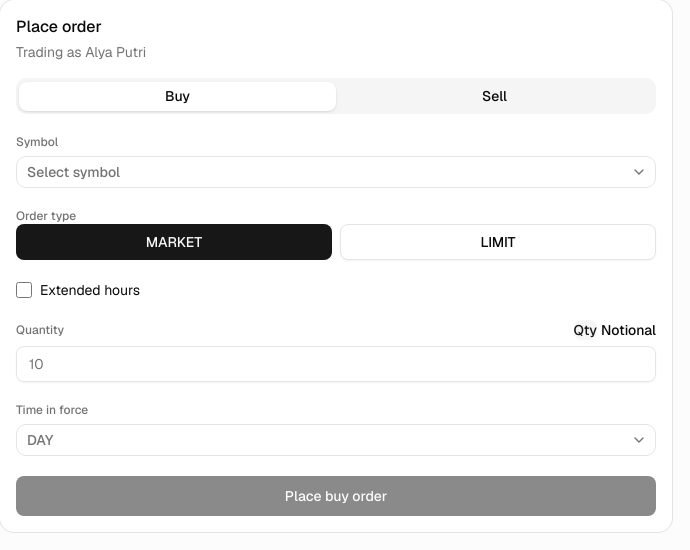
Test: OrderForm › switches to Sell mode when Sell tab is clicked
The width and height of the screenshot is (690, 550).
Click the tab "Sell" at [494, 96], box [336,82,653,110]
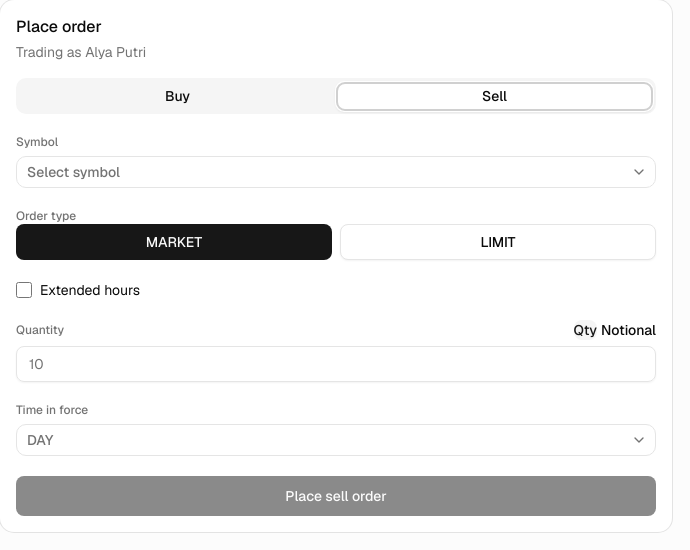
Now the button "Place sell order" is shown, box [16,476,656,516]
